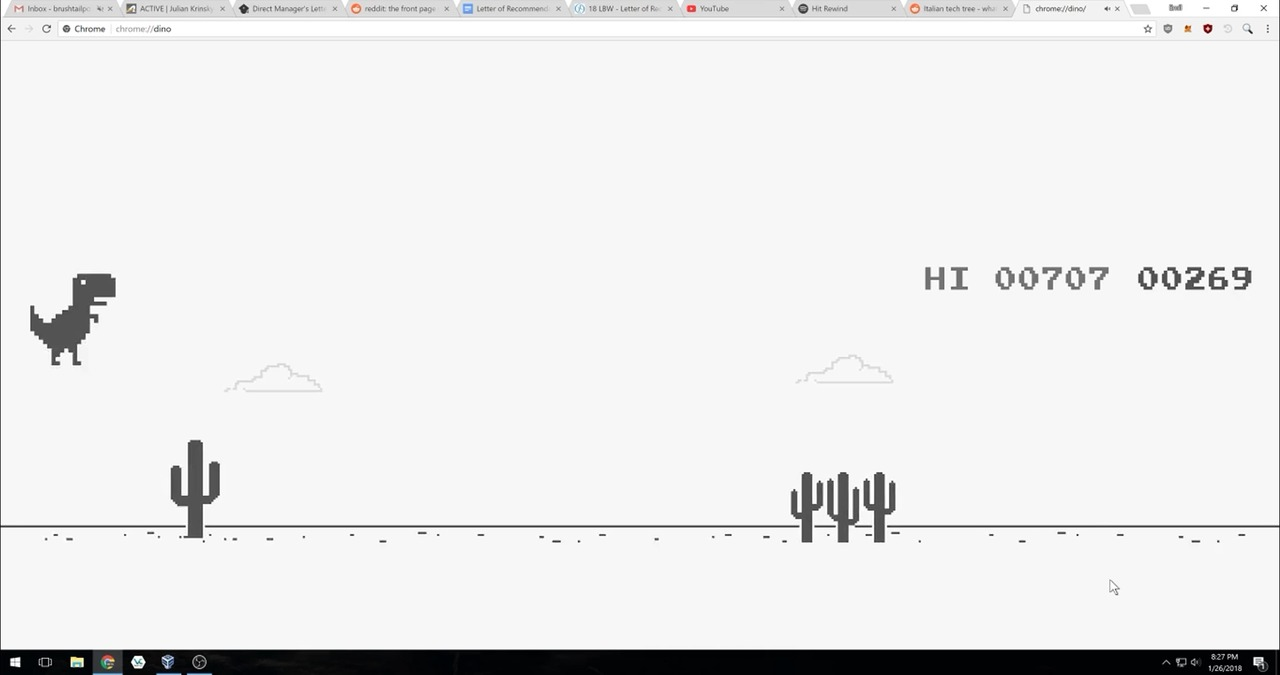cactus: (789, 467, 900, 546), (166, 434, 224, 546)
dinosaur: (30, 268, 113, 367)
